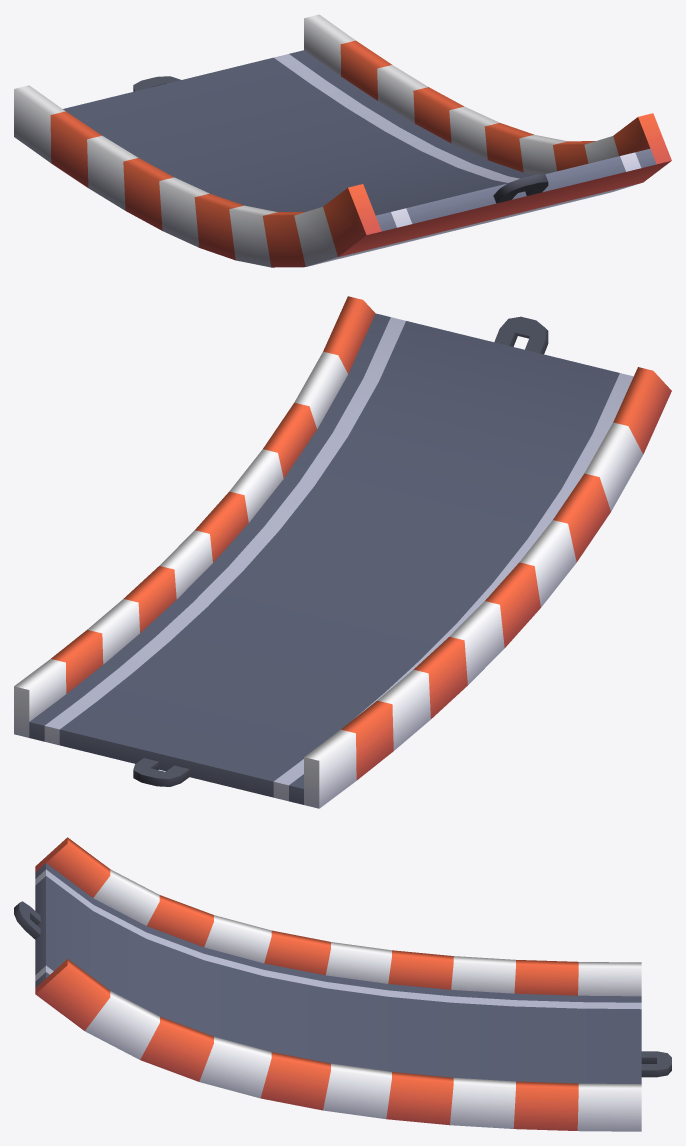
File: kenney-toy-car-track-road-wide-straight-hill-beginning.glb
The picture shows the model from 3 angles, top to bottom: view 1: azimuth 30°, elevation 25°; view 2: azimuth 150°, elevation 25°; view 3: azimuth 270°, elevation 25°; orthographic projection. The views are drawn at different scales.
Visible parts, largest first — view 1: track-road-wide-straight-hill-beginning; view 2: track-road-wide-straight-hill-beginning; view 3: track-road-wide-straight-hill-beginning.
Part boxes in pixels (bbox=[...]): track-road-wide-straight-hill-beginning: bbox=[14, 14, 671, 267]; track-road-wide-straight-hill-beginning: bbox=[14, 296, 671, 808]; track-road-wide-straight-hill-beginning: bbox=[14, 837, 671, 1131].
Size of the model in its own units: 2 by 1.21 by 4.34.
1 material, 1 textured.
